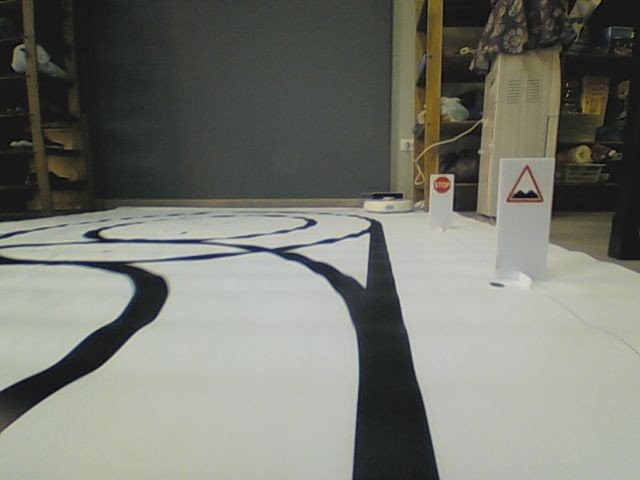Nerov: (504, 163, 544, 203)
Stop: (433, 176, 451, 194)
